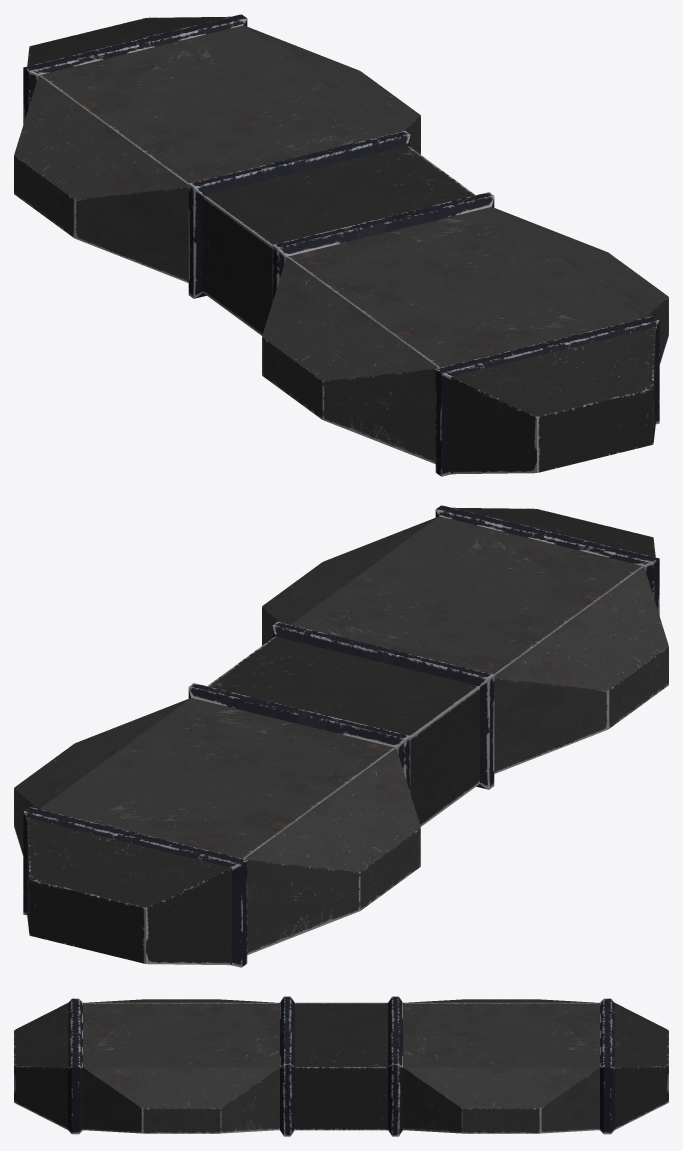
File: body_s_2.fbx
3 views of the same model, one above another, from view 1: azimuth 30°, elevation 25°; view 2: azimuth 150°, elevation 25°; view 3: azimuth 270°, elevation 25° (orthographic). The views are drawn at different scales.
Visible parts, largest first — view 1: body_s_2; view 2: body_s_2; view 3: body_s_2.
Boxes of the visible parts, left/top/right/bottom form: body_s_2: left=14, top=14, right=668, bottom=476; body_s_2: left=14, top=505, right=668, bottom=967; body_s_2: left=14, top=996, right=668, bottom=1136.
Size of the model in its own units: 12.94 by 3.98 by 32.83.
